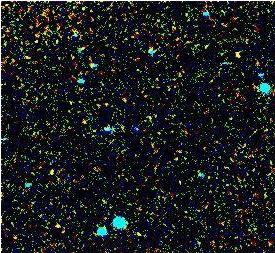star: (221, 36, 251, 66)
